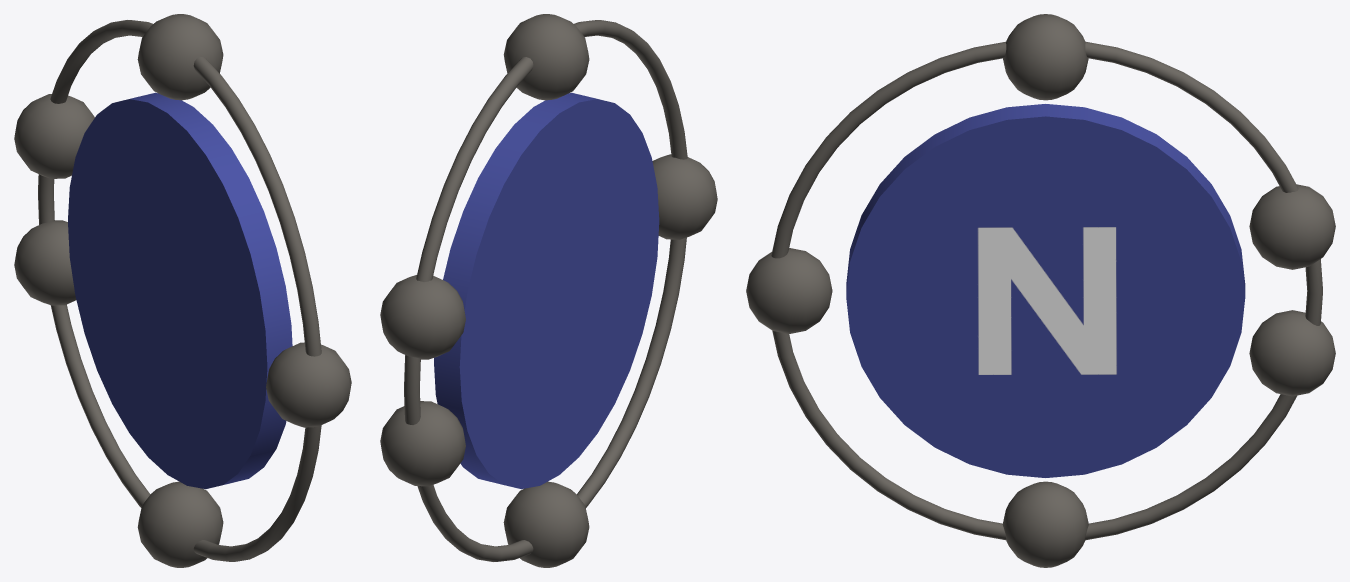
The picture shows the model from 3 angles, left to right: view 1: azimuth 30°, elevation 25°; view 2: azimuth 150°, elevation 25°; view 3: azimuth 270°, elevation 25°; orthographic projection.
Parts seen in each view (by area): view 1: m_n, m_aro.005, m_ele.031, m_ele.028, m_ele.027, m_ele.029, m_ele.030; view 2: m_n, m_aro.005, m_ele.029, m_ele.028, m_ele.030, m_ele.027, m_ele.031; view 3: m_n, m_aro.005, m_ele.028, m_ele.027, m_ele.030, m_ele.031, m_ele.029.
Boxes of the visible parts, <box> form: m_n: <box>68,92,292,489</box>; m_aro.005: <box>38,20,321,561</box>; m_ele.031: <box>266,342,351,427</box>; m_ele.028: <box>137,481,223,567</box>; m_ele.027: <box>137,14,223,100</box>; m_ele.029: <box>14,94,94,178</box>; m_ele.030: <box>14,220,76,305</box>; m_n: <box>434,92,659,489</box>; m_aro.005: <box>404,20,687,561</box>; m_ele.029: <box>380,275,465,359</box>; m_ele.028: <box>503,481,589,567</box>; m_ele.030: <box>380,401,465,486</box>; m_ele.027: <box>503,14,589,100</box>; m_ele.031: <box>652,154,717,239</box>; m_n: <box>846,104,1245,477</box>; m_aro.005: <box>771,41,1322,540</box>; m_ele.028: <box>1002,481,1088,567</box>; m_ele.027: <box>1003,14,1088,100</box>; m_ele.030: <box>1249,310,1335,396</box>; m_ele.031: <box>746,248,832,333</box>; m_ele.029: <box>1249,184,1335,269</box>.
Size of the model in its own units: 43.32 by 302 by 296.
